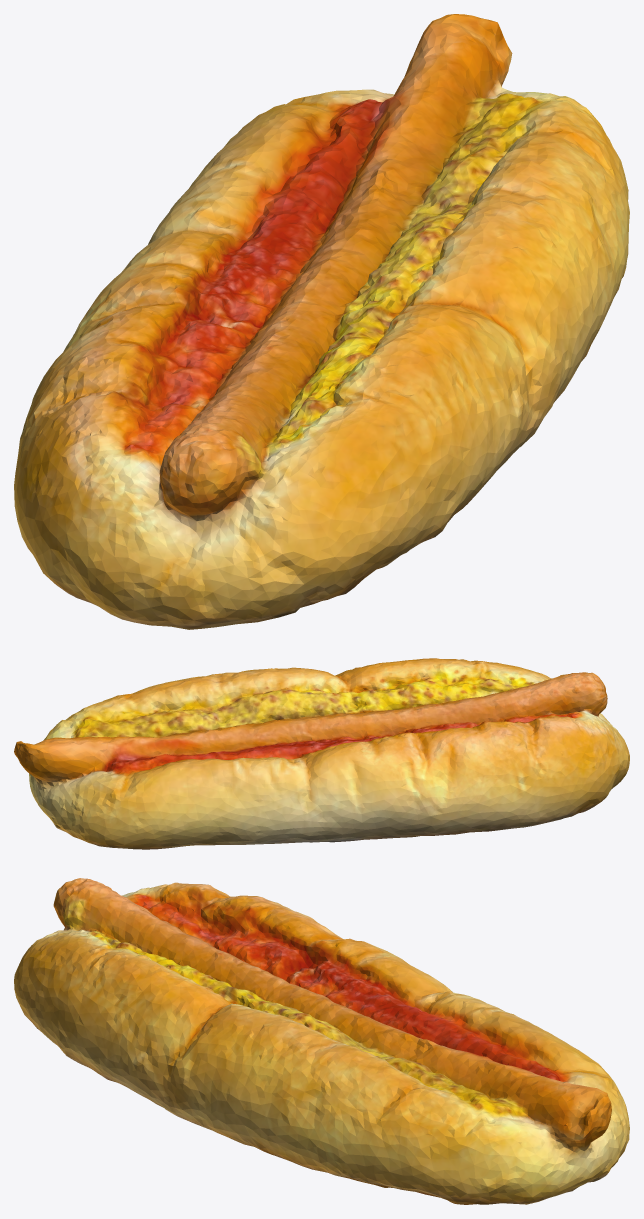
Rendered from witch.glb.
3 renders of one model, top to bottom at view 1: azimuth 30°, elevation 25°; view 2: azimuth 150°, elevation 25°; view 3: azimuth 270°, elevation 25°, orthographic. The views are drawn at different scales.
Size of the model in its own units: 0.3189 by 0.0776 by 0.3099.
1 material, 1 textured.
